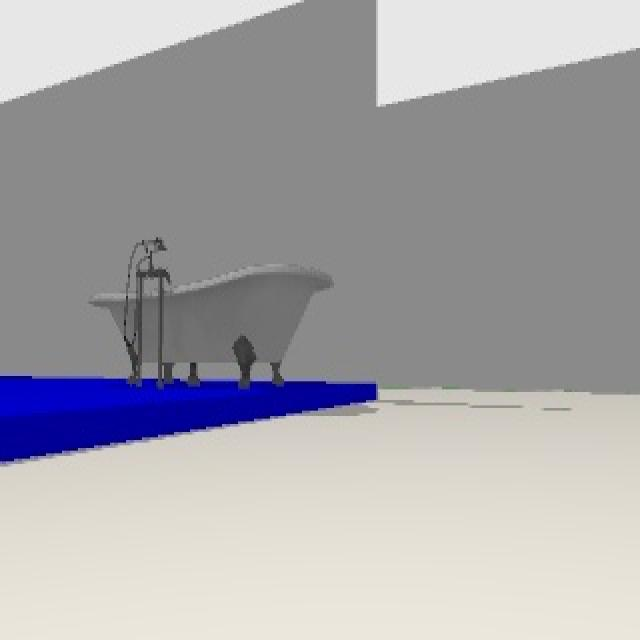bathtub: (88, 229, 338, 388)
